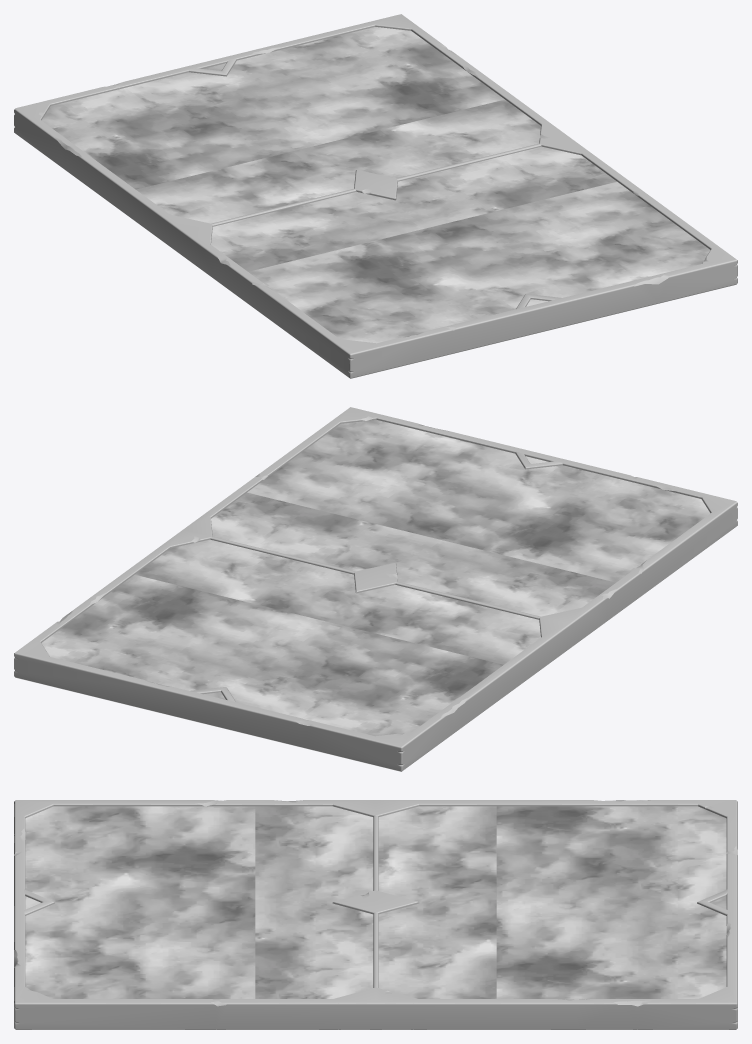
3 views of the same model, one above another, from view 1: azimuth 30°, elevation 25°; view 2: azimuth 150°, elevation 25°; view 3: azimuth 270°, elevation 25° (orthographic). The views are drawn at different scales.
Visible parts, largest first — view 1: SM_AgilityPlatform_4x6_LOD0; view 2: SM_AgilityPlatform_4x6_LOD0; view 3: SM_AgilityPlatform_4x6_LOD0.
Boxes of the visible parts, x1=… form: SM_AgilityPlatform_4x6_LOD0: x1=14, y1=14, x2=737, y2=378; SM_AgilityPlatform_4x6_LOD0: x1=14, y1=407, x2=737, y2=771; SM_AgilityPlatform_4x6_LOD0: x1=14, y1=800, x2=737, y2=1029.
Bounding box in the file's own units: 4 × 0.2501 × 6.
